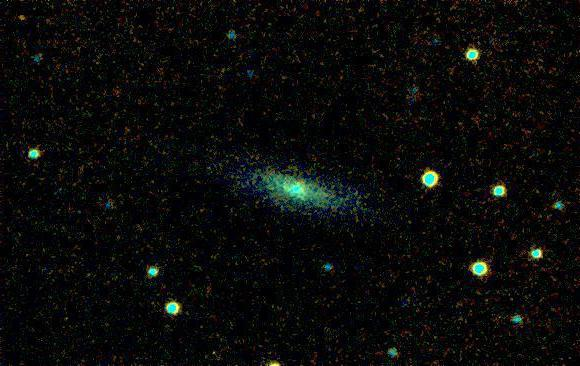star: (6, 1, 36, 31)
